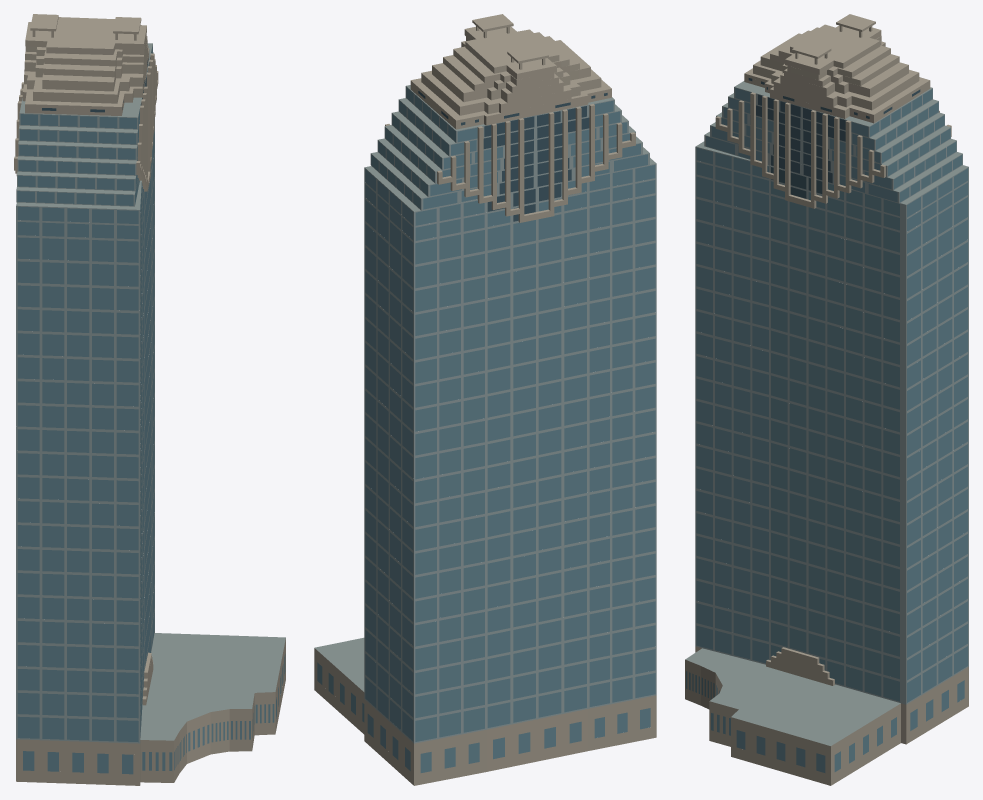
Rendered from heritage-plaza-houston-far.glb.
3 renders of one model, left to right at view 1: azimuth 30°, elevation 25°; view 2: azimuth 150°, elevation 25°; view 3: azimuth 270°, elevation 25°, orthographic. The views are drawn at different scales.
Visible parts, largest first — view 1: heritage-plaza-houston-0-glass, heritage-plaza-houston-0-metal, heritage-plaza-houston-0-granite, heritage-plaza-houston-0-roof; view 2: heritage-plaza-houston-0-glass, heritage-plaza-houston-0-metal, heritage-plaza-houston-0-granite, heritage-plaza-houston-0-crownGlass, heritage-plaza-houston-0-roof; view 3: heritage-plaza-houston-0-glass, heritage-plaza-houston-0-metal, heritage-plaza-houston-0-granite, heritage-plaza-houston-0-roof, heritage-plaza-houston-0-crownGlass.
Boxes of the visible parts, <box> form: heritage-plaza-houston-0-glass: <box>17,46,285,774</box>; heritage-plaza-houston-0-metal: <box>16,44,154,743</box>; heritage-plaza-houston-0-granite: <box>14,14,285,785</box>; heritage-plaza-houston-0-roof: <box>16,43,285,740</box>; heritage-plaza-houston-0-glass: <box>317,87,655,772</box>; heritage-plaza-houston-0-metal: <box>364,86,656,743</box>; heritage-plaza-houston-0-granite: <box>314,14,656,785</box>; heritage-plaza-houston-0-crownGlass: <box>418,90,607,221</box>; heritage-plaza-houston-0-roof: <box>314,85,656,691</box>; heritage-plaza-houston-0-glass: <box>686,88,967,772</box>; heritage-plaza-houston-0-metal: <box>695,87,968,704</box>; heritage-plaza-houston-0-granite: <box>685,14,968,785</box>; heritage-plaza-houston-0-roof: <box>685,81,968,745</box>; heritage-plaza-houston-0-crownGlass: <box>748,78,920,198</box>.
Size of the model in its own units: 106 by 232 by 90.54.
